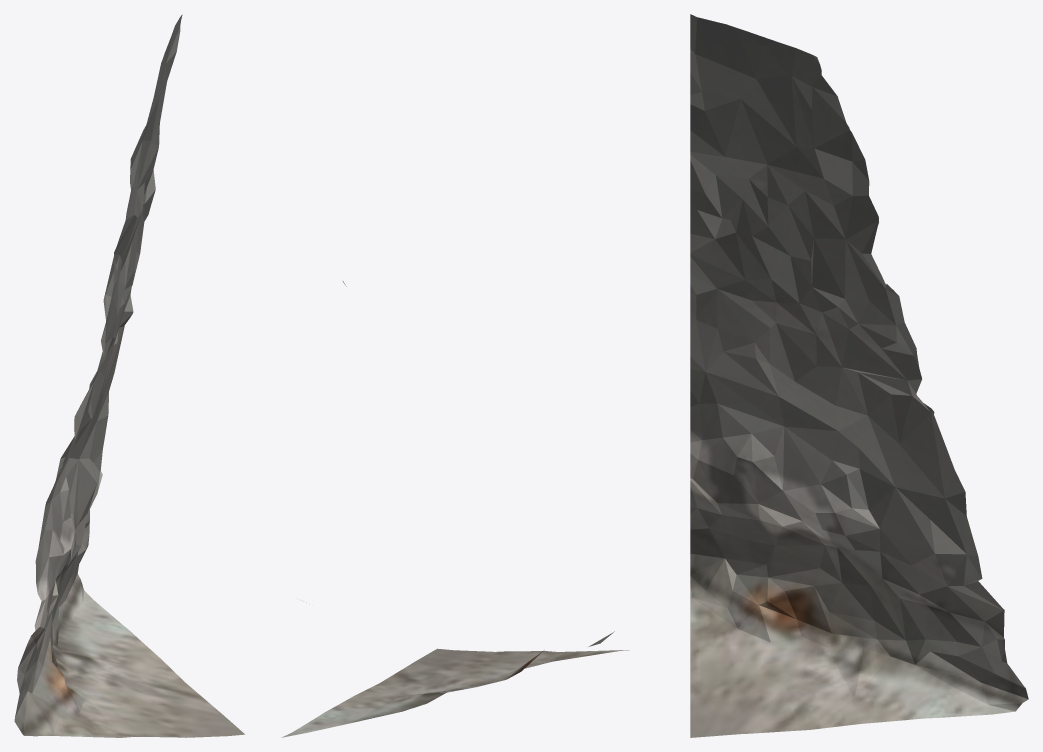
3 renders of one model, left to right at view 1: azimuth 30°, elevation 25°; view 2: azimuth 150°, elevation 25°; view 3: azimuth 270°, elevation 25°, orthographic. The views are drawn at different scales.
Size of the model in its own units: 0.2533 by 0.7067 by 0.3185.
1 material, 1 textured.
